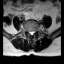CCS_normal: (30, 28, 32, 36)
LFS_normal: (34, 28, 36, 34)
LLS_normal: (32, 28, 34, 36)
RFS_normal: (26, 27, 28, 34)
RLS_normal: (28, 28, 30, 36)
